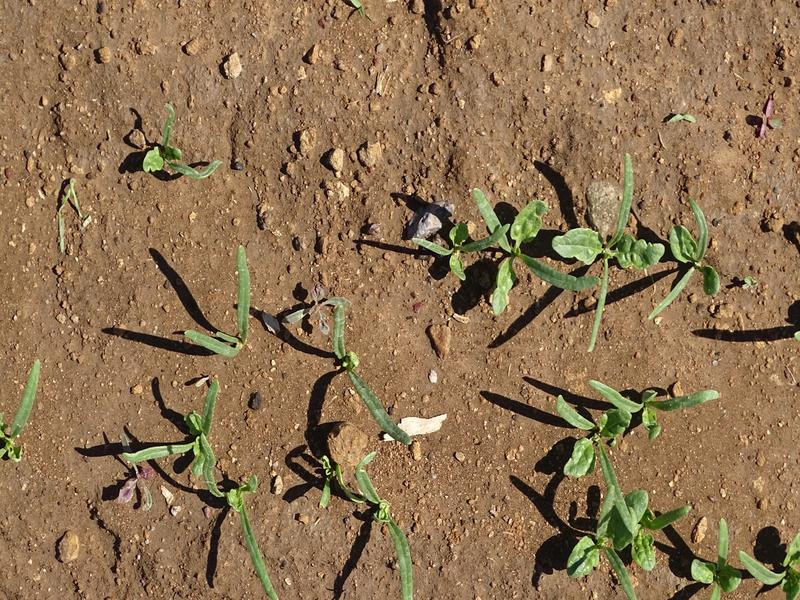Espinaca: (536, 360, 800, 593), (442, 162, 723, 323), (136, 395, 285, 587), (312, 295, 419, 446), (172, 242, 283, 373), (334, 452, 423, 600), (143, 101, 235, 190), (1, 362, 50, 453)
